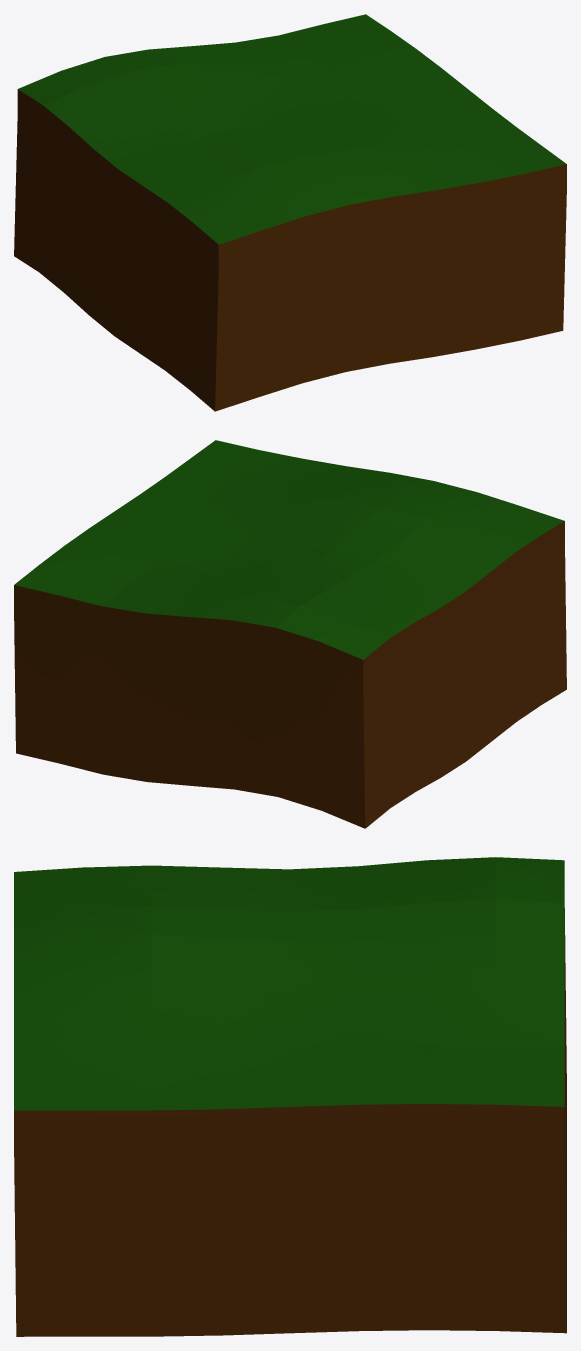
The model's file is terreno.fbx.
3 renders of one model, top to bottom at view 1: azimuth 30°, elevation 25°; view 2: azimuth 150°, elevation 25°; view 3: azimuth 270°, elevation 25°, orthographic. The views are drawn at different scales.
Visible parts, largest first — view 1: Cube, Cube.001; view 2: Cube, Cube.001; view 3: Cube.001, Cube.
Boxes of the visible parts, left/top/right/bottom form: Cube: left=14, top=89, right=566, bottom=411; Cube.001: left=18, top=14, right=566, bottom=244; Cube: left=14, top=521, right=566, bottom=828; Cube.001: left=14, top=440, right=564, bottom=659; Cube.001: left=14, top=857, right=564, bottom=1110; Cube: left=14, top=908, right=566, bottom=1336.
Bounding box in the file's own units: 442 × 234 × 440.
